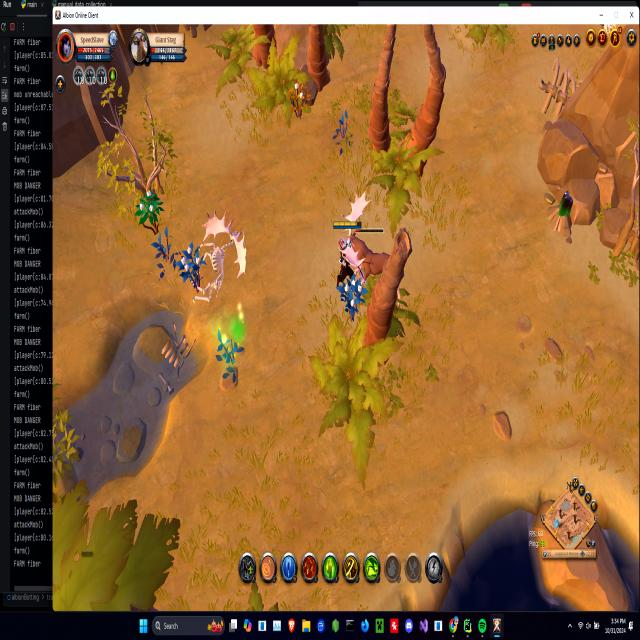hide: (340, 267, 367, 320), (214, 327, 243, 372), (178, 240, 204, 287), (136, 187, 162, 230), (288, 77, 308, 122)
ore: (341, 190, 404, 305)
player: (544, 184, 575, 241)
red: (332, 216, 359, 296)
